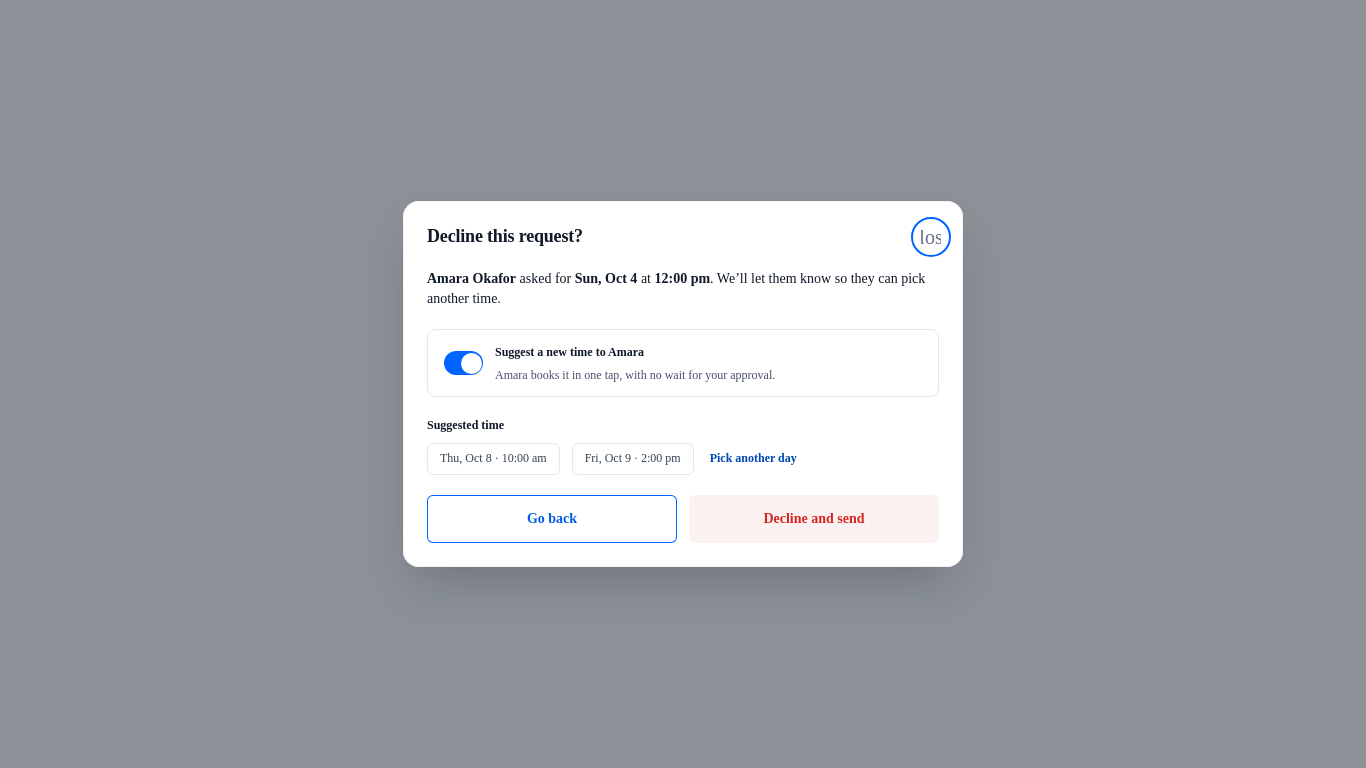
Test: the box belongs to Other, and what was typed there does not outlive it › typed words survive every tap of the chip — a deselect is not a delete
Click the switch named "Suggest a new time to Amara": (464, 363) 444,351 -> 483,375
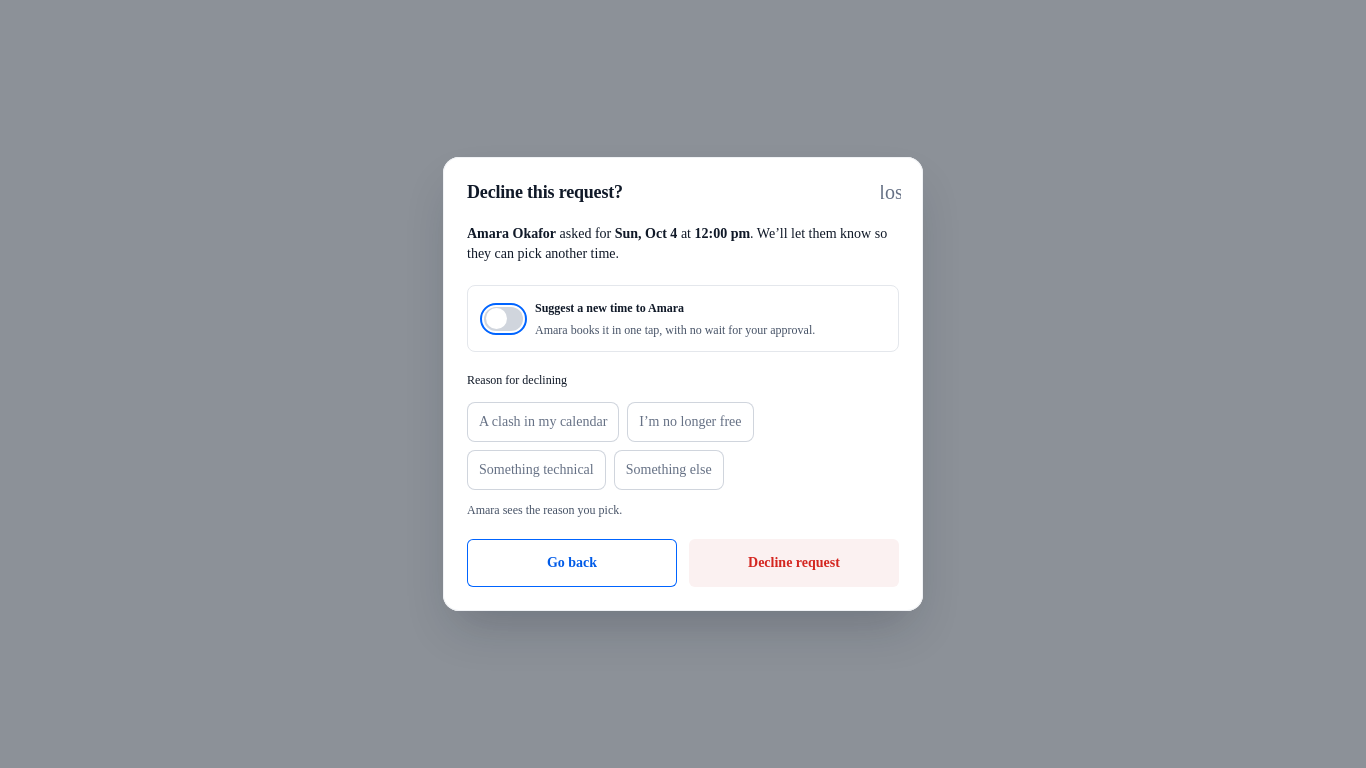
Click the button "Something else": (669, 470) 614,450 -> 724,490
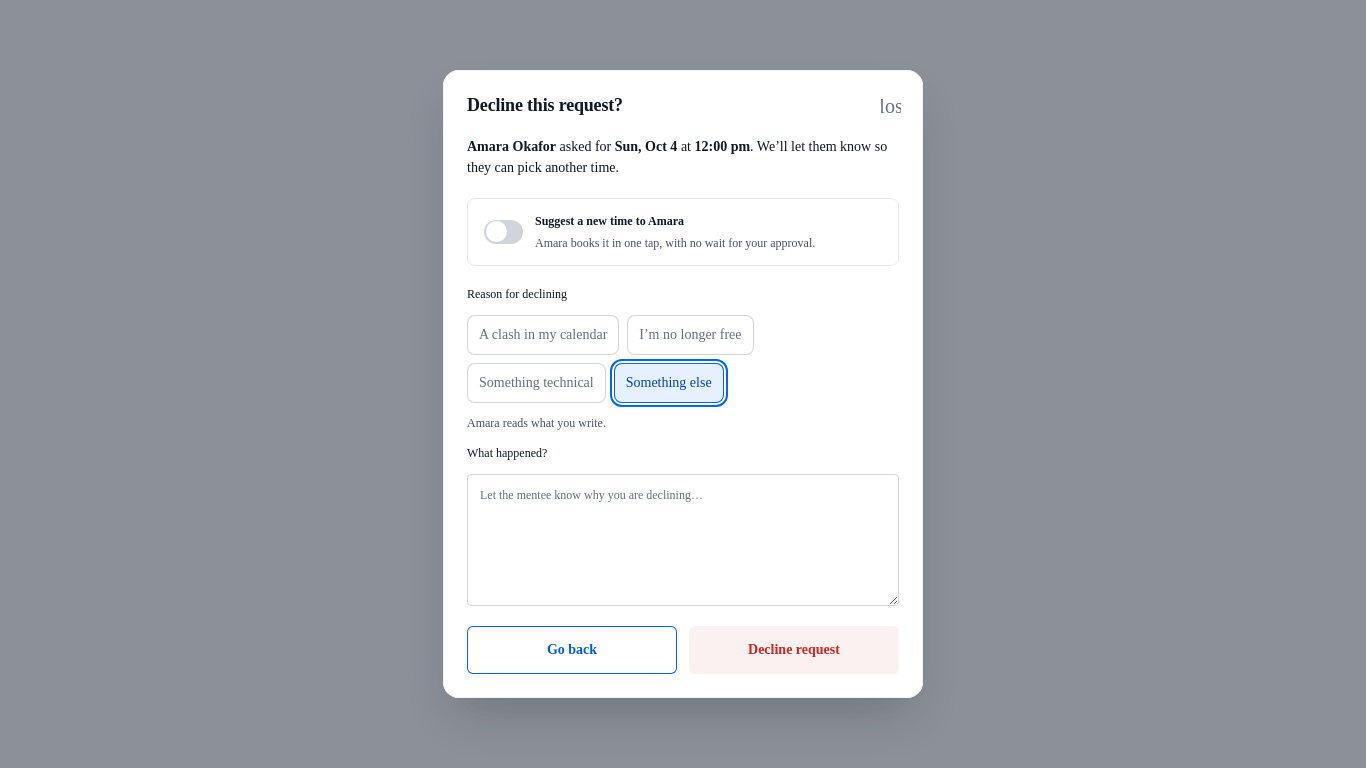
In the text box: (683, 540) 467,474 -> 899,606, type "a long explanation I do not want to lose"
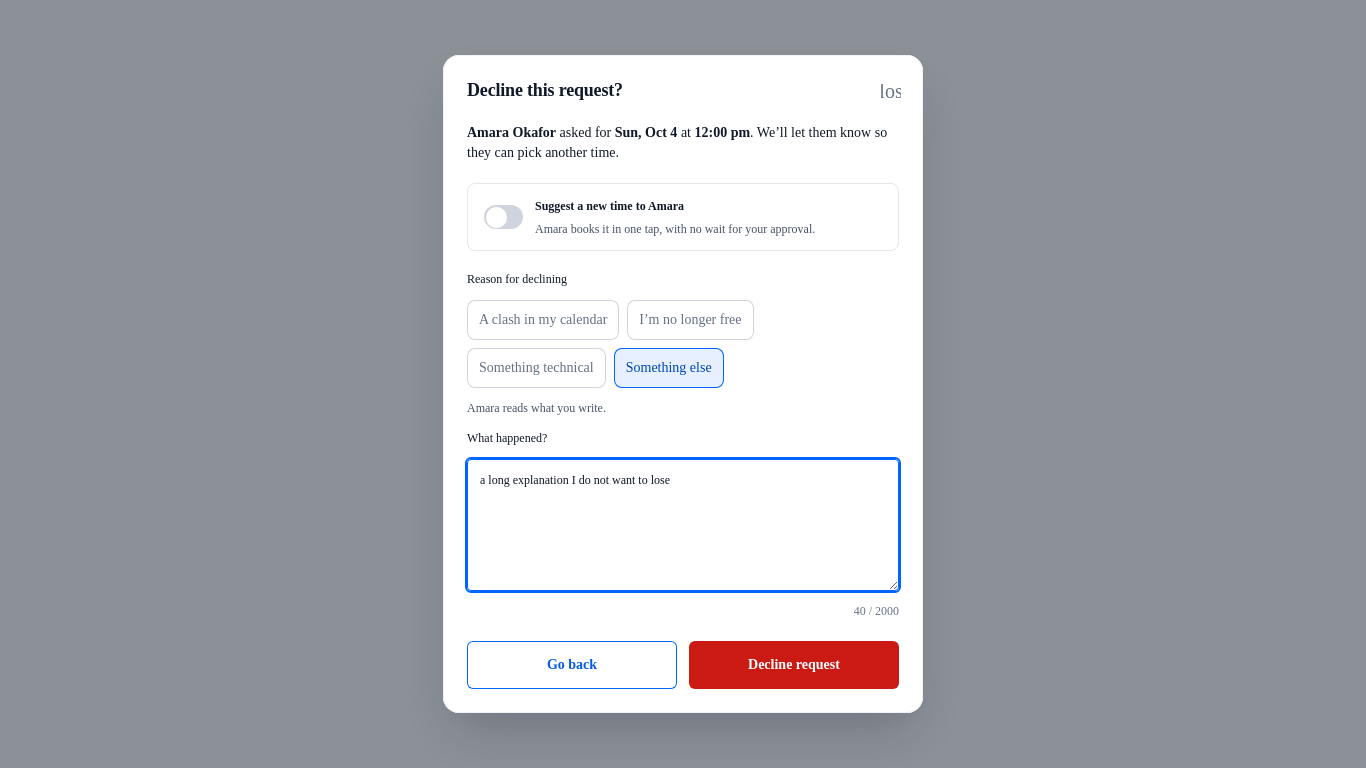
Click the button "Something else": (669, 368) 614,348 -> 724,388
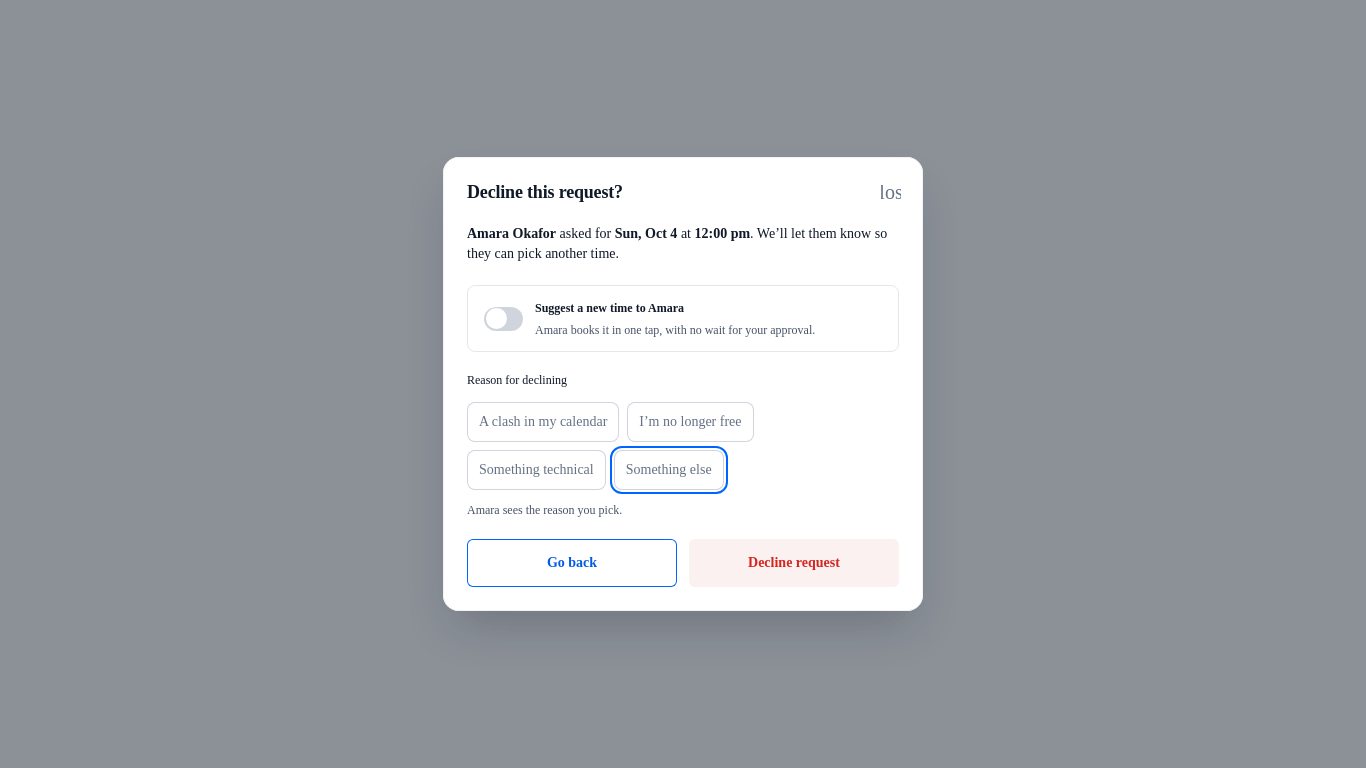
Click the button "Something else": (669, 470) 614,450 -> 724,490
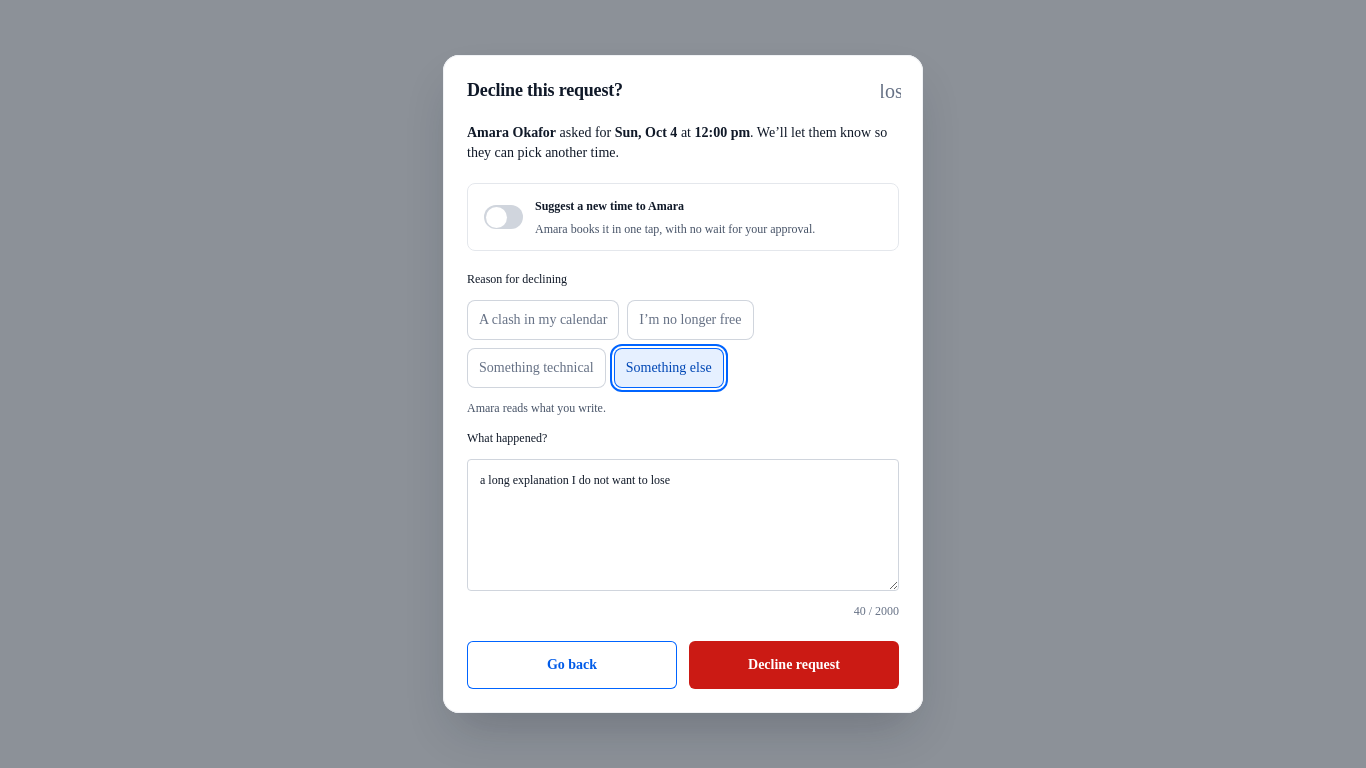
Expected: the text box holds "a long explanation I do not want to lose", 467,459 -> 899,591
